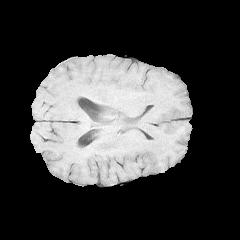glioma: (94, 80, 168, 133)
